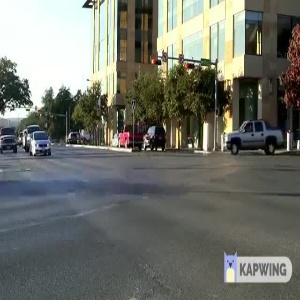car: (28, 129, 53, 157)
suv: (144, 124, 169, 151)
truck: (218, 115, 285, 159), (115, 122, 143, 151), (1, 126, 21, 155)
